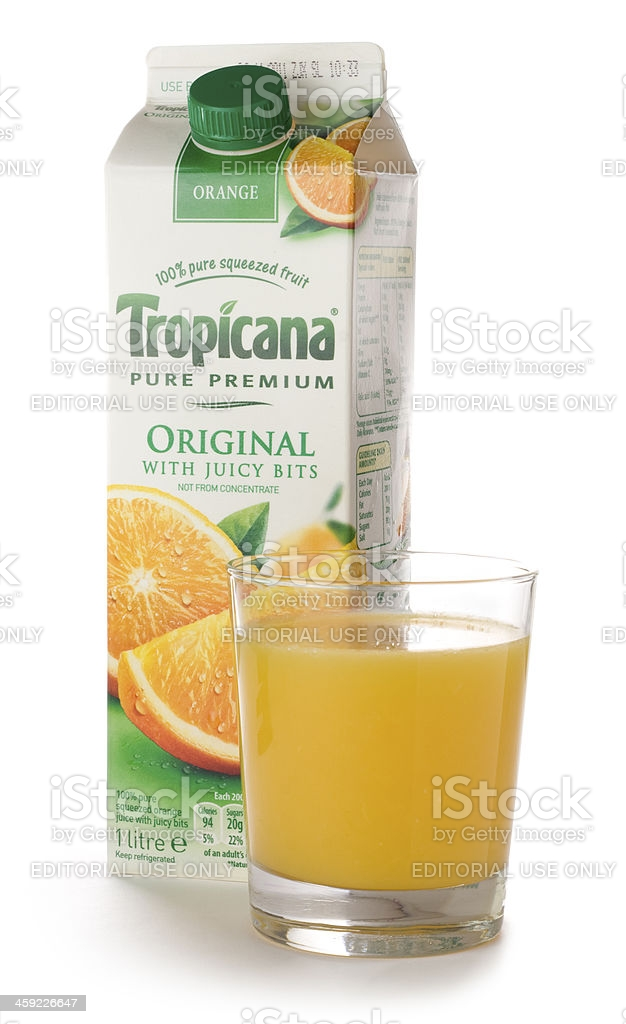carton: (66, 20, 468, 969)
